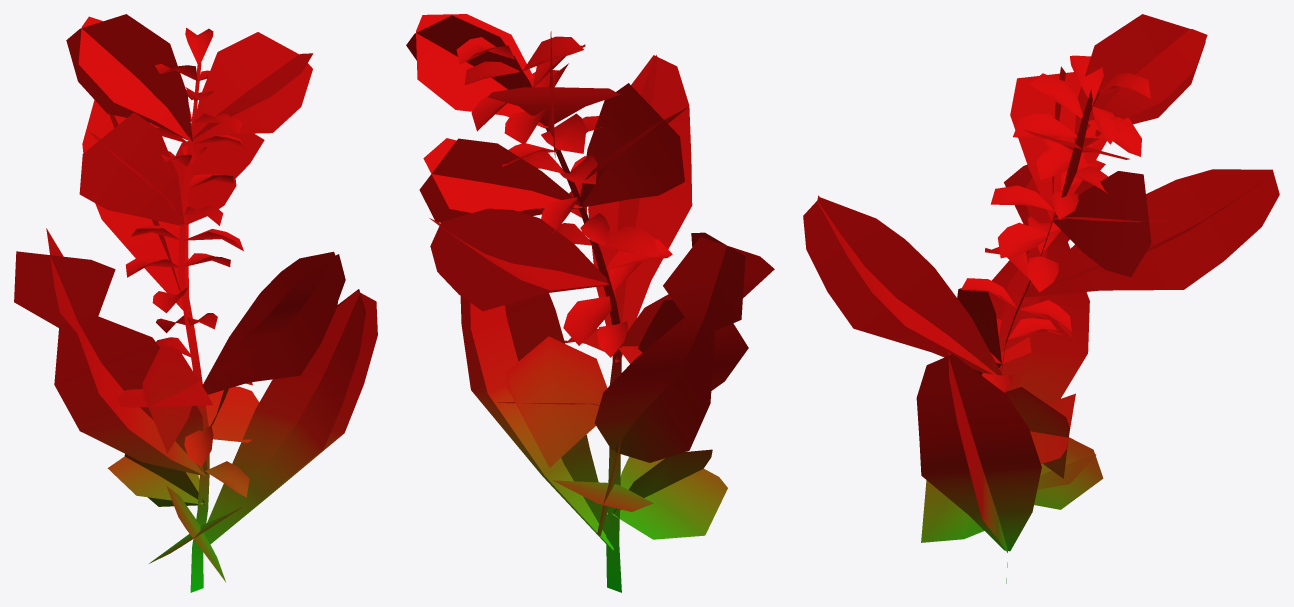
The model's file is European Spindle_LOD3_Var7.fbx.
3 views of the same model, side by side, from view 1: azimuth 30°, elevation 25°; view 2: azimuth 150°, elevation 25°; view 3: azimuth 270°, elevation 25° (orthographic). The views are drawn at different scales.
Parts seen in each view (by area): view 1: _cwio_Var7_LOD3; view 2: _cwio_Var7_LOD3; view 3: _cwio_Var7_LOD3.
Part boxes in pixels (x1,y1,x2,y2): _cwio_Var7_LOD3: [14, 14, 377, 592]; _cwio_Var7_LOD3: [406, 14, 774, 592]; _cwio_Var7_LOD3: [803, 14, 1279, 583].
Bounding box in the file's own units: 52.28 × 87.2 × 65.72.
